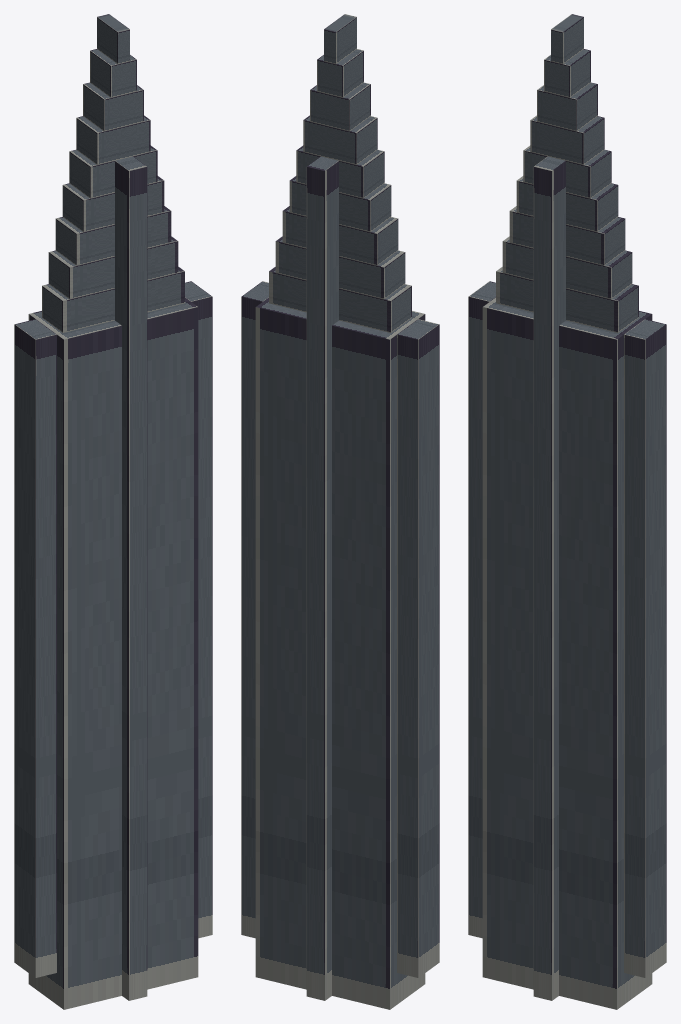
Rendered from workpiece_xuantie_flying_sword_tempered.obj.
The picture shows the model from 3 angles, left to right: view 1: azimuth 30°, elevation 25°; view 2: azimuth 150°, elevation 25°; view 3: azimuth 330°, elevation 25°; orthographic projection.
Visible parts, largest first — view 1: geometry; view 2: geometry; view 3: geometry.
Boxes of the visible parts, left/top/right/bottom form: geometry: left=14, top=14, right=212, bottom=1009; geometry: left=241, top=14, right=439, bottom=1009; geometry: left=468, top=14, right=666, bottom=1009.
Size of the model in its own units: 0.3625 by 1.88 by 0.175.
